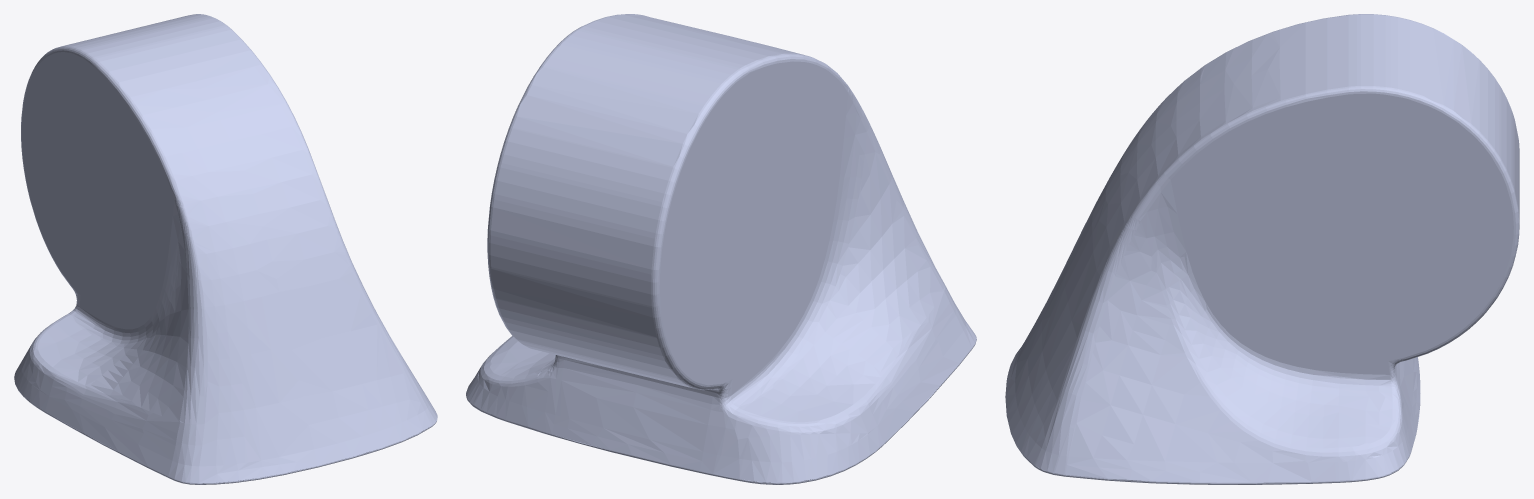
Rendered from left_shoulder_pitch_link.dae.
The picture shows the model from 3 angles, left to right: view 1: azimuth 30°, elevation 25°; view 2: azimuth 150°, elevation 25°; view 3: azimuth 270°, elevation 25°; orthographic projection. The views are drawn at different scales.
Visible parts, largest first — view 1: left_shoulder_pitch_link; view 2: left_shoulder_pitch_link; view 3: left_shoulder_pitch_link.
Part boxes in pixels (x1,y1,x2,y2): left_shoulder_pitch_link: (14, 14, 437, 484); left_shoulder_pitch_link: (466, 14, 976, 484); left_shoulder_pitch_link: (1005, 14, 1519, 484).
Bounding box in the file's own units: 0.1042 × 0.1 × 0.1339.
